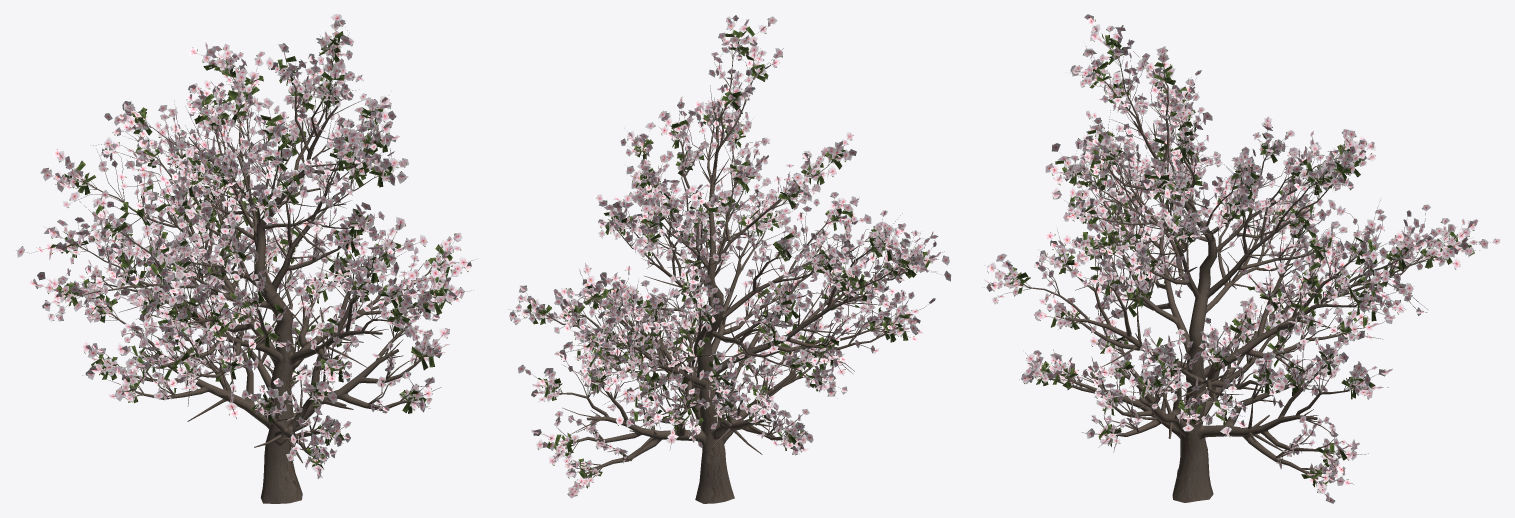
File: japanese_cherry_tree_optimized.glb
The picture shows the model from 3 angles, left to right: view 1: azimuth 30°, elevation 25°; view 2: azimuth 150°, elevation 25°; view 3: azimuth 270°, elevation 25°; orthographic projection. The views are drawn at different scales.
Visible parts, largest first — view 1: cherry_0; view 2: cherry_0; view 3: cherry_0.
Boxes of the visible parts, left/top/right/bottom form: cherry_0: left=16, top=14, right=473, bottom=503; cherry_0: left=509, top=15, right=950, bottom=503; cherry_0: left=982, top=14, right=1500, bottom=503.
Bounding box in the file's own units: 38.64 × 39.01 × 38.45.
Materials: 2 (2 with a texture image).
